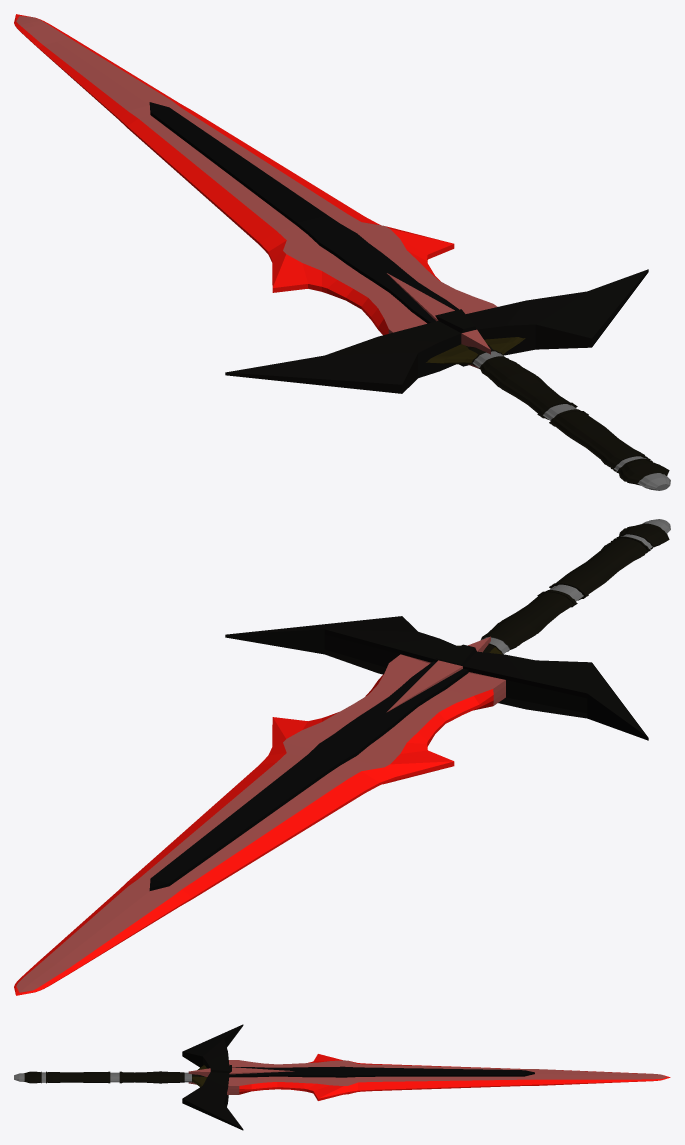
File: enemy_sword.fbx
3 renders of one model, top to bottom at view 1: azimuth 30°, elevation 25°; view 2: azimuth 150°, elevation 25°; view 3: azimuth 270°, elevation 25°, orthographic. The views are drawn at different scales.
Visible parts, largest first — view 1: model.000, model.001; view 2: model.000, model.001; view 3: model.000, model.001.
Part boxes in pixels (box(x1,y1,x2,y2)): model.000: box(14, 14, 648, 393); model.001: box(426, 337, 670, 490); model.000: box(14, 616, 648, 995); model.001: box(457, 519, 670, 654); model.000: box(182, 1024, 670, 1130); model.001: box(14, 1065, 207, 1087).
Size of what is drawn, in the model's own units: 50.64 by 4.28 by 134.
